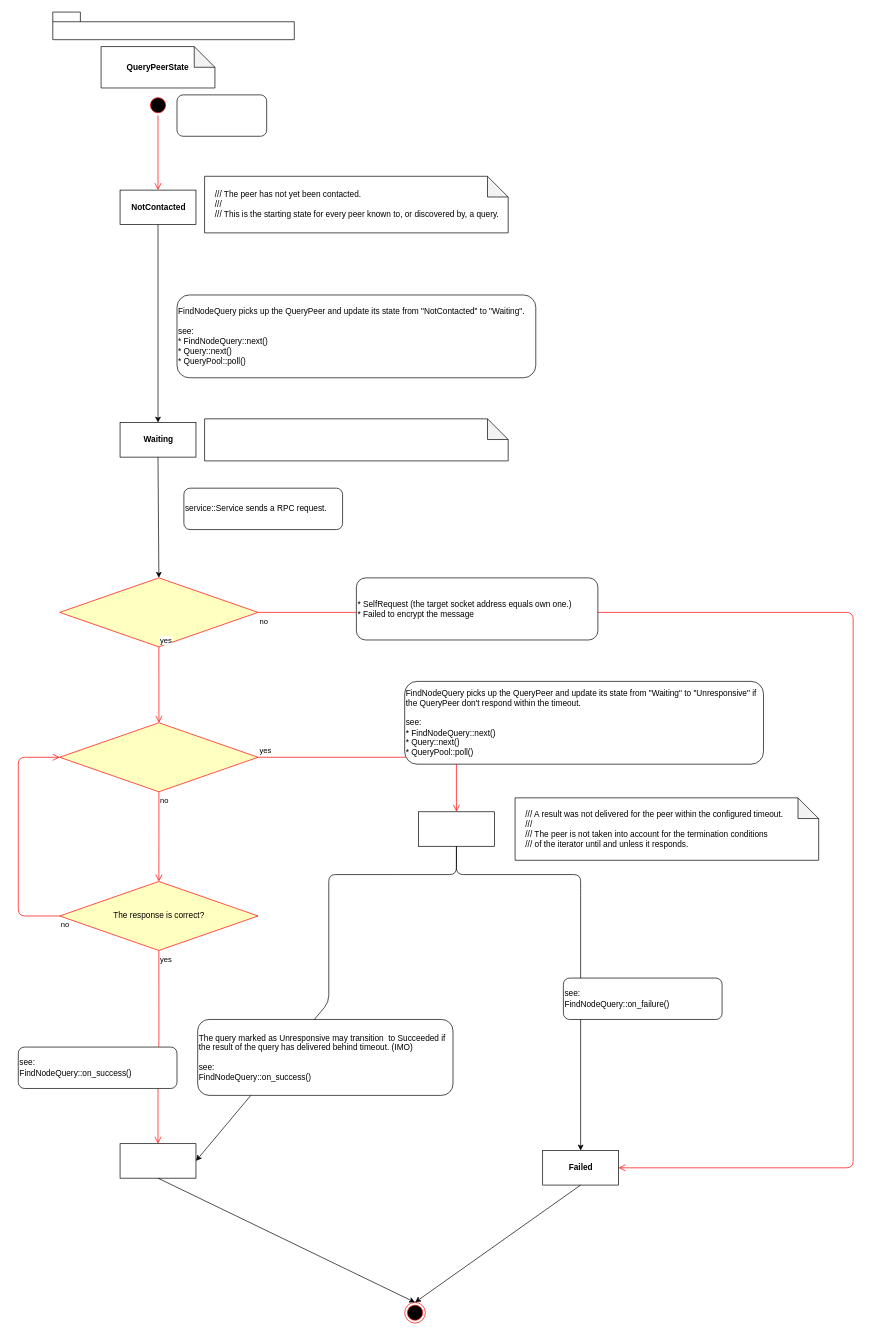
Some shapes in this 872 by 1335 pixel diagram are drawn without their labels. The centre of each missing label's shape, as x and y in pixels:
/// The query is waiting for a result from the peer.: the point at 356,439
<package> query_pool::peers::closest: the point at 173,25
see: QueryPeer::new(): the point at 221,115
Sent the request successfully?: the point at 158,612
Succeeded: the point at 157,1160
The RPC request exceeded the timeout?: the point at 158,757
Unresponsive: the point at 456,828
